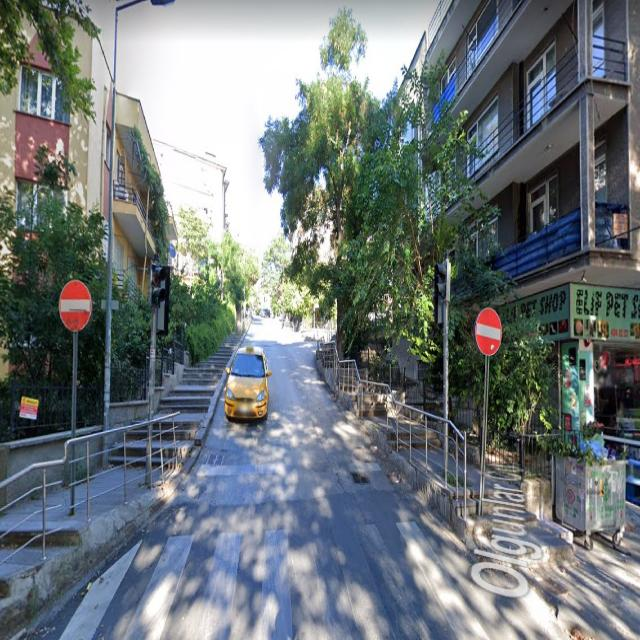girisyok: (58, 278, 92, 332), (475, 307, 502, 356)
